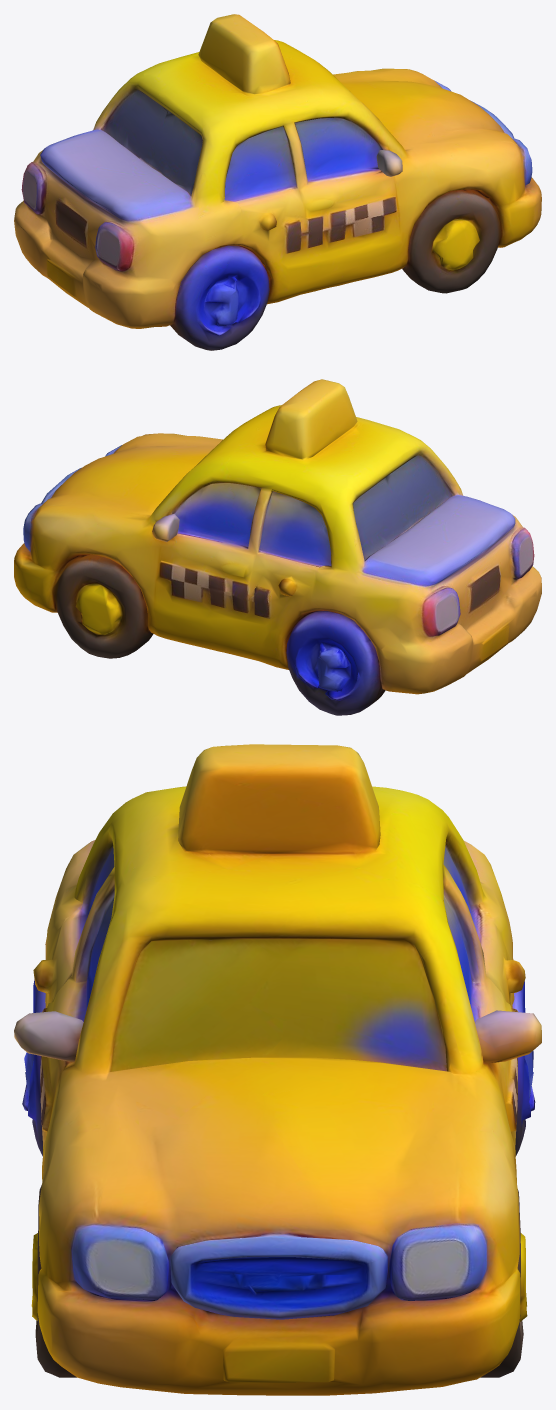
The model's file is yellow_taxi.glb.
3 renders of one model, top to bottom at view 1: azimuth 30°, elevation 25°; view 2: azimuth 150°, elevation 25°; view 3: azimuth 270°, elevation 25°, orthographic. The views are drawn at different scales.
Visible parts, largest first — view 1: tripo_node_5c115adb-5014-4e23-94aa-5d1dcc67aed9; view 2: tripo_node_5c115adb-5014-4e23-94aa-5d1dcc67aed9; view 3: tripo_node_5c115adb-5014-4e23-94aa-5d1dcc67aed9.
Boxes of the visible parts, x1,y1,x2,y2 form: tripo_node_5c115adb-5014-4e23-94aa-5d1dcc67aed9: (14,14,541,350); tripo_node_5c115adb-5014-4e23-94aa-5d1dcc67aed9: (14,379,541,715); tripo_node_5c115adb-5014-4e23-94aa-5d1dcc67aed9: (14,744,541,1395).
Size of the model in its own units: 1 by 0.5585 by 0.5562.
Materials: 1 (1 with a texture image).
